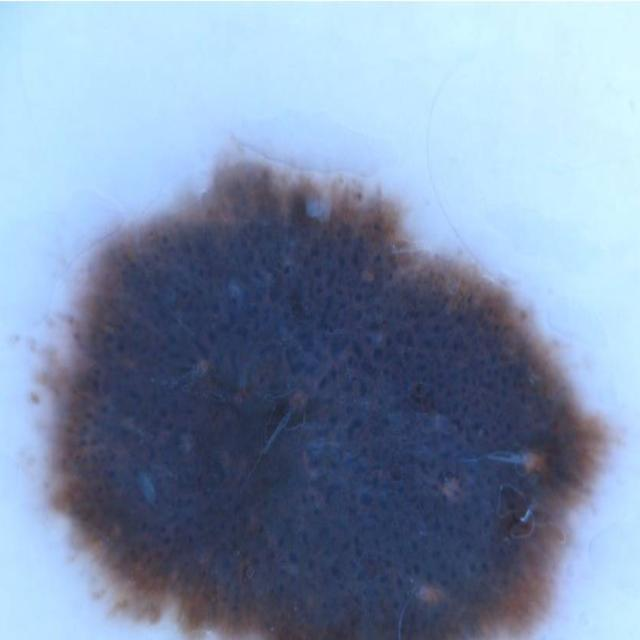Melanoma: (23, 146, 633, 640)
